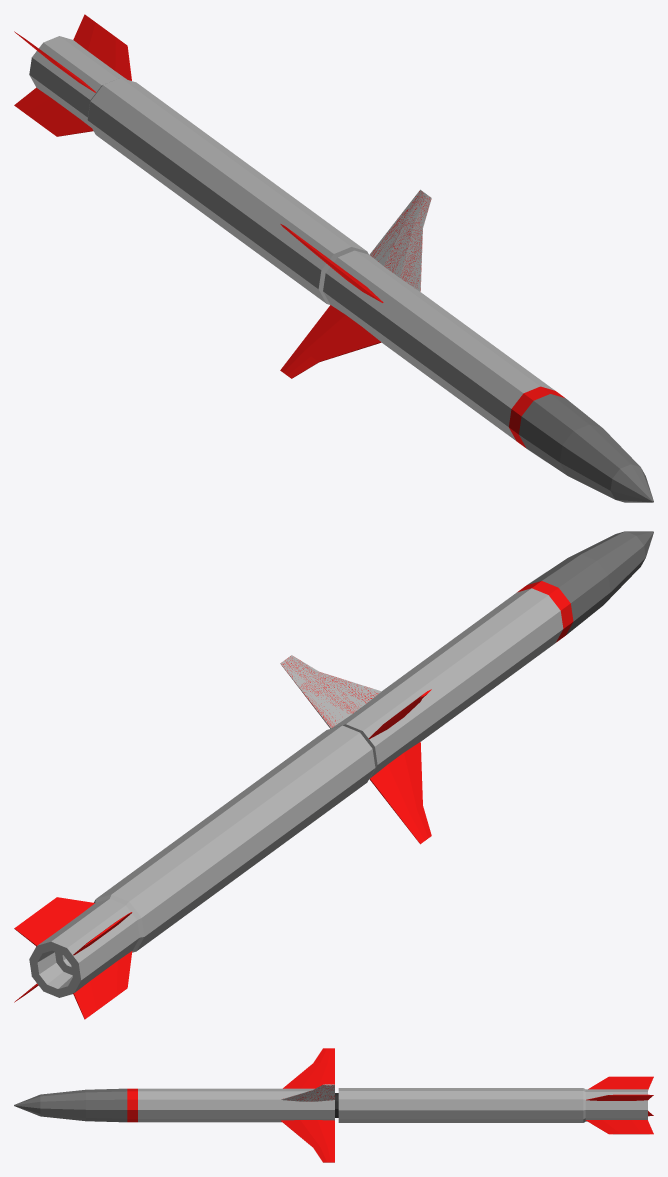
File: SM_missile02.fbx
3 renders of one model, top to bottom at view 1: azimuth 30°, elevation 25°; view 2: azimuth 150°, elevation 25°; view 3: azimuth 270°, elevation 25°, orthographic. The views are drawn at different scales.
Parts seen in each view (by area): view 1: Cylinder; view 2: Cylinder; view 3: Cylinder.
Part boxes in pixels (x1,y1,x2,y2): Cylinder: (14, 14, 653, 502); Cylinder: (14, 531, 653, 1019); Cylinder: (14, 1048, 653, 1162).
Bounding box in the file's own units: 49 × 49 × 362.
